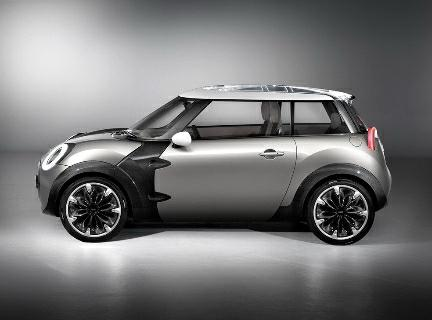MINI-ROCKETMAN: (37, 84, 398, 242)
